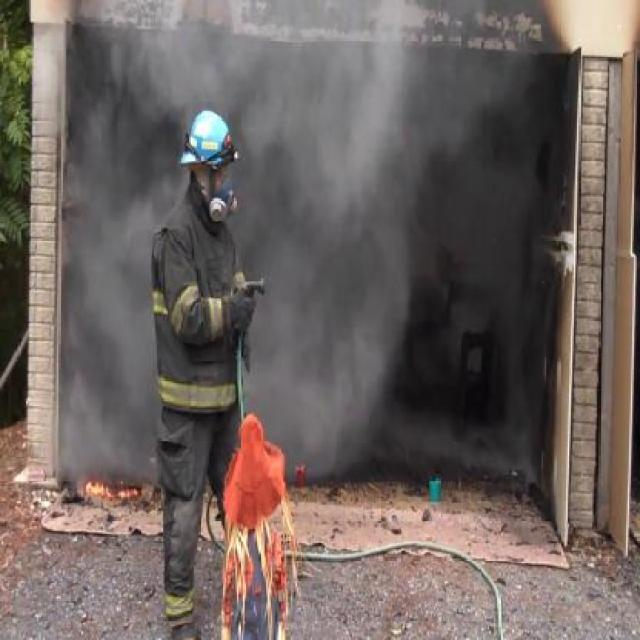smoke: (70, 29, 435, 438), (466, 64, 560, 373)
